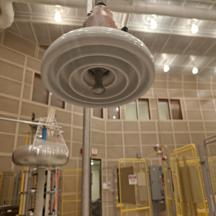insulator: (32, 1, 165, 110)
